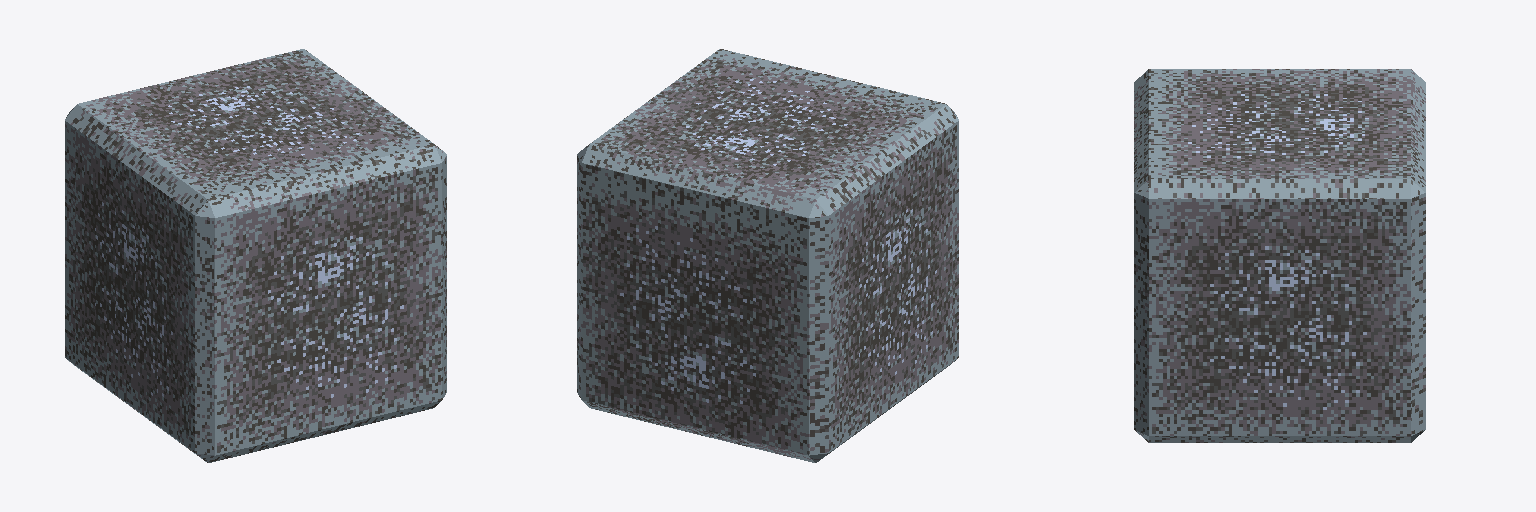
The picture shows the model from 3 angles: view 1: azimuth 30°, elevation 25°; view 2: azimuth 150°, elevation 25°; view 3: azimuth 270°, elevation 25°; orthographic projection.
Parts seen in each view (by area): view 1: pCube1; view 2: pCube1; view 3: pCube1.
Boxes of the visible parts, x1,y1,x2,y2 form: pCube1: [65, 49, 446, 462]; pCube1: [577, 49, 958, 462]; pCube1: [1134, 69, 1425, 442].
Bounding box in the file's own units: 1 × 1 × 1.
Materials: 1 (1 with a texture image).